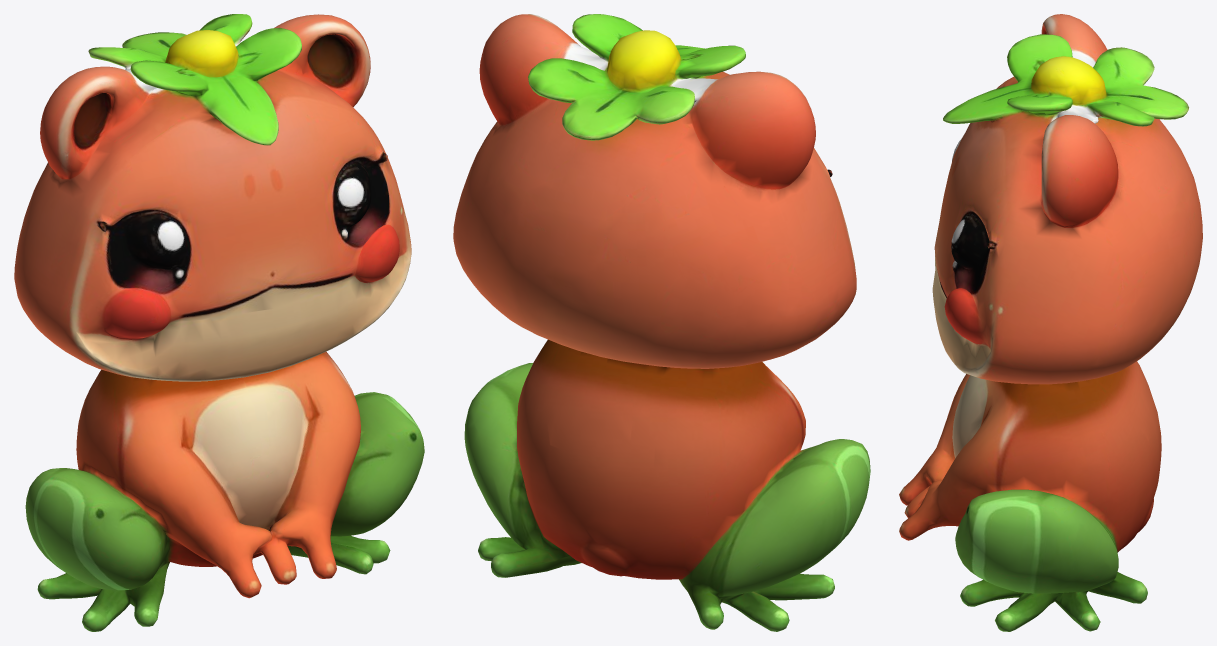
File: fokur.glb
The picture shows the model from 3 angles, left to right: view 1: azimuth 30°, elevation 25°; view 2: azimuth 150°, elevation 25°; view 3: azimuth 270°, elevation 25°; orthographic projection. The views are drawn at different scales.
Visible parts, largest first — view 1: world_1; view 2: world_1; view 3: world_1.
Boxes of the visible parts, bbox=[...] form: world_1: bbox=[14, 14, 424, 631]; world_1: bbox=[453, 14, 870, 631]; world_1: bbox=[899, 14, 1202, 631].
Bounding box in the file's own units: 0.7071 × 0.996 × 0.5412.
1 material, 1 textured.
